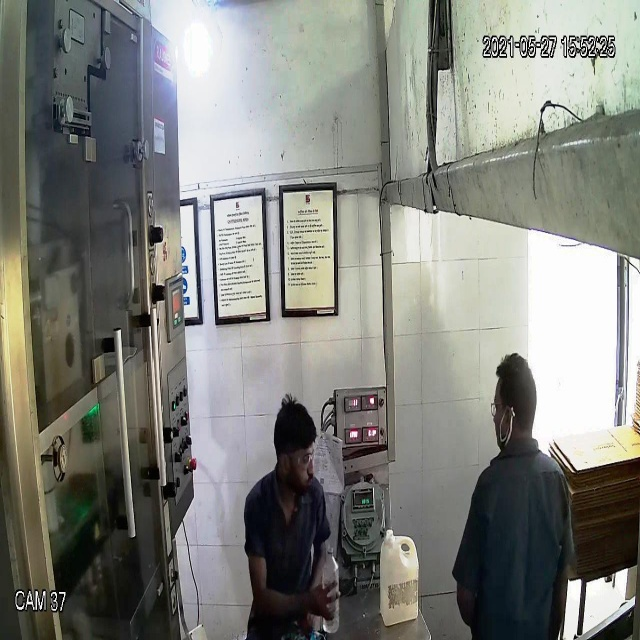Gafas: (279, 444, 319, 475)
